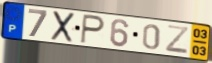0: (141, 23, 163, 50)
6: (108, 18, 131, 48)
7: (26, 8, 49, 39)
P: (79, 13, 106, 45)
X: (50, 10, 76, 44)
Z: (165, 23, 190, 55)
